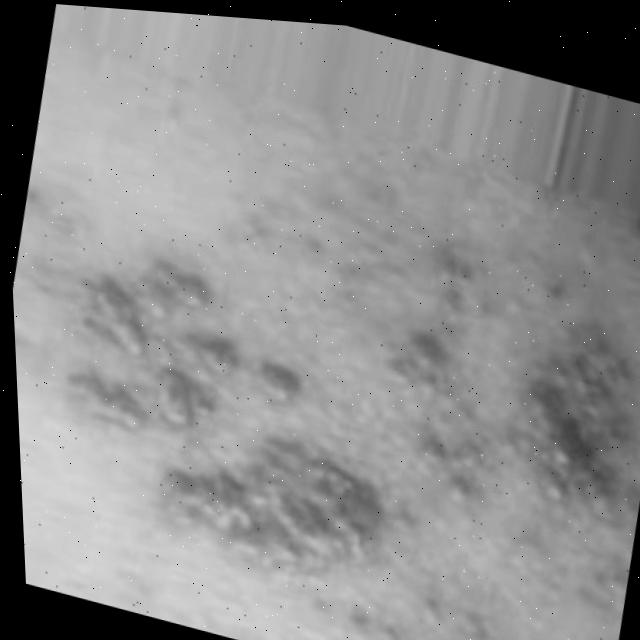Shingles: (7, 163, 640, 640)
